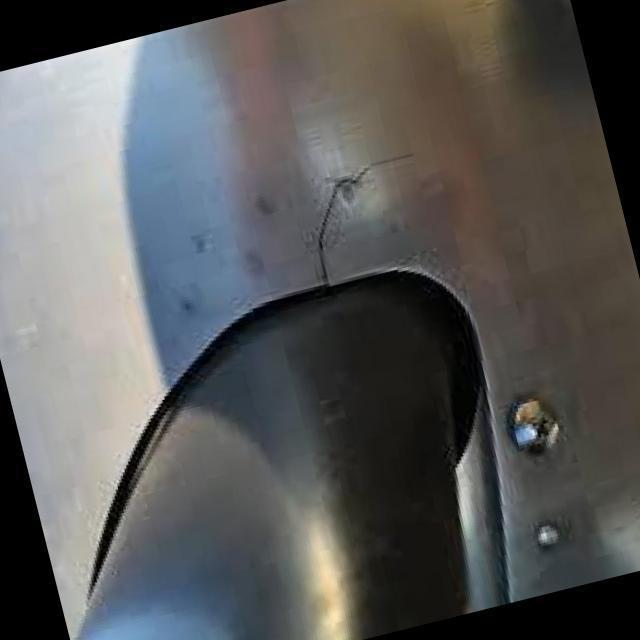defect: (314, 147, 419, 287)
